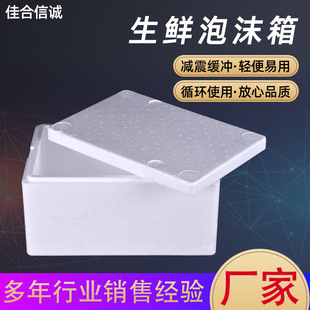泡沫箱: (22, 91, 266, 255)
